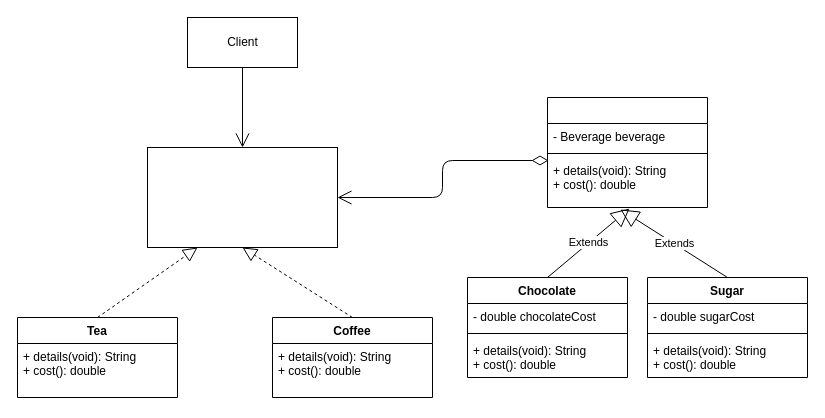
Image size: 825x418. Some labels were removed from this diagram. Here are the shapes that lost their labels. From the top down, the box of each, then its label:
(546, 96, 708, 208): Condiments
(146, 146, 338, 248): <<Interface>> Beverage + details(void): String + cost(): double
